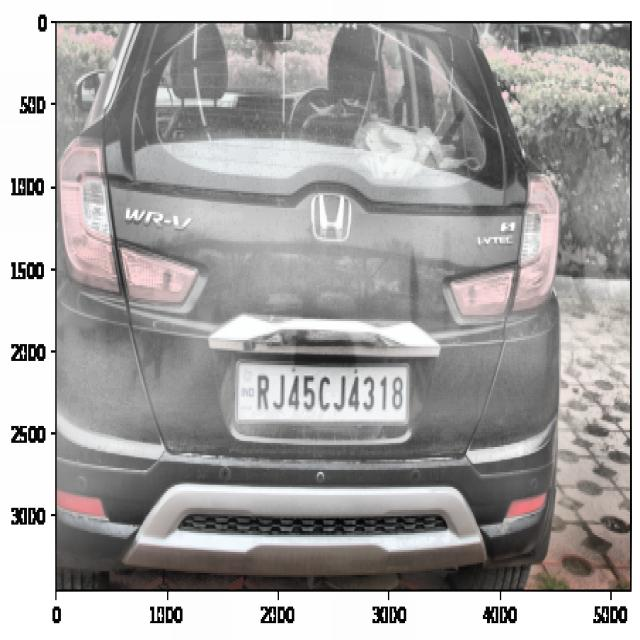license_plate: (245, 358, 409, 426)
